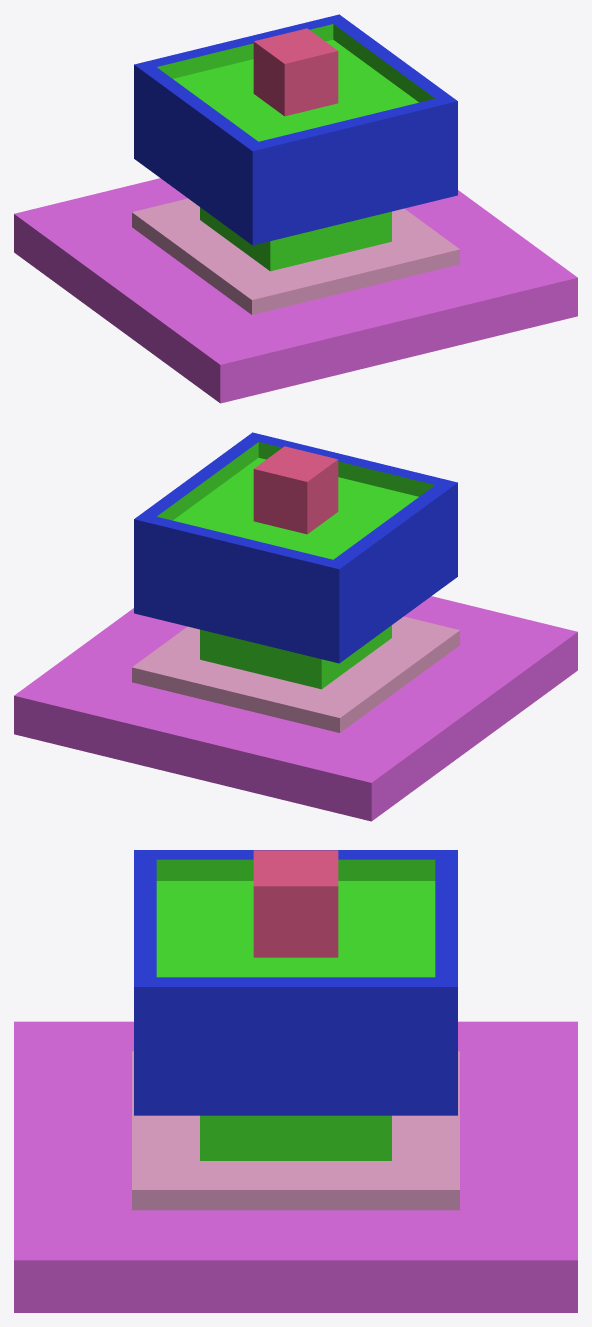
Rendered from rapidFire_Lv1.fbx.
3 renders of one model, top to bottom at view 1: azimuth 30°, elevation 25°; view 2: azimuth 150°, elevation 25°; view 3: azimuth 270°, elevation 25°, orthographic. The views are drawn at different scales.
Parts seen in each view (by area): view 1: Cube.004; view 2: Cube.004; view 3: Cube.004.
Part boxes in pixels (x1=…): Cube.004: x1=14, y1=14, x2=577, y2=403; Cube.004: x1=14, y1=432, x2=577, y2=821; Cube.004: x1=14, y1=850, x2=577, y2=1312.
Bounding box in the file's own units: 200 × 127 × 200.
